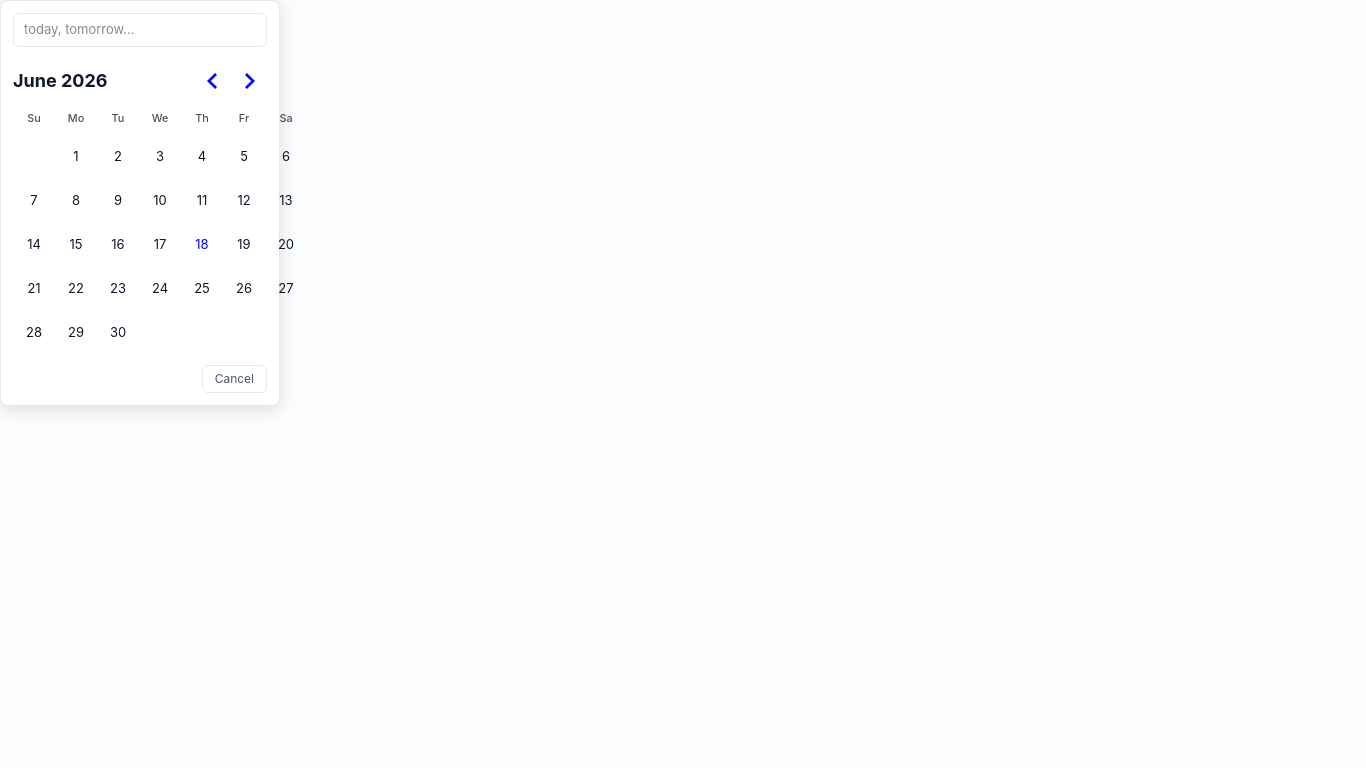
Test: DatePicker › shows error when ISO date is invalid
# type an invalid date and press Enter
Step 1. Type "2026-13-45" into the field with placeholder "today, tomorrow…" → (140, 30), box left=13, top=13, right=267, bottom=46
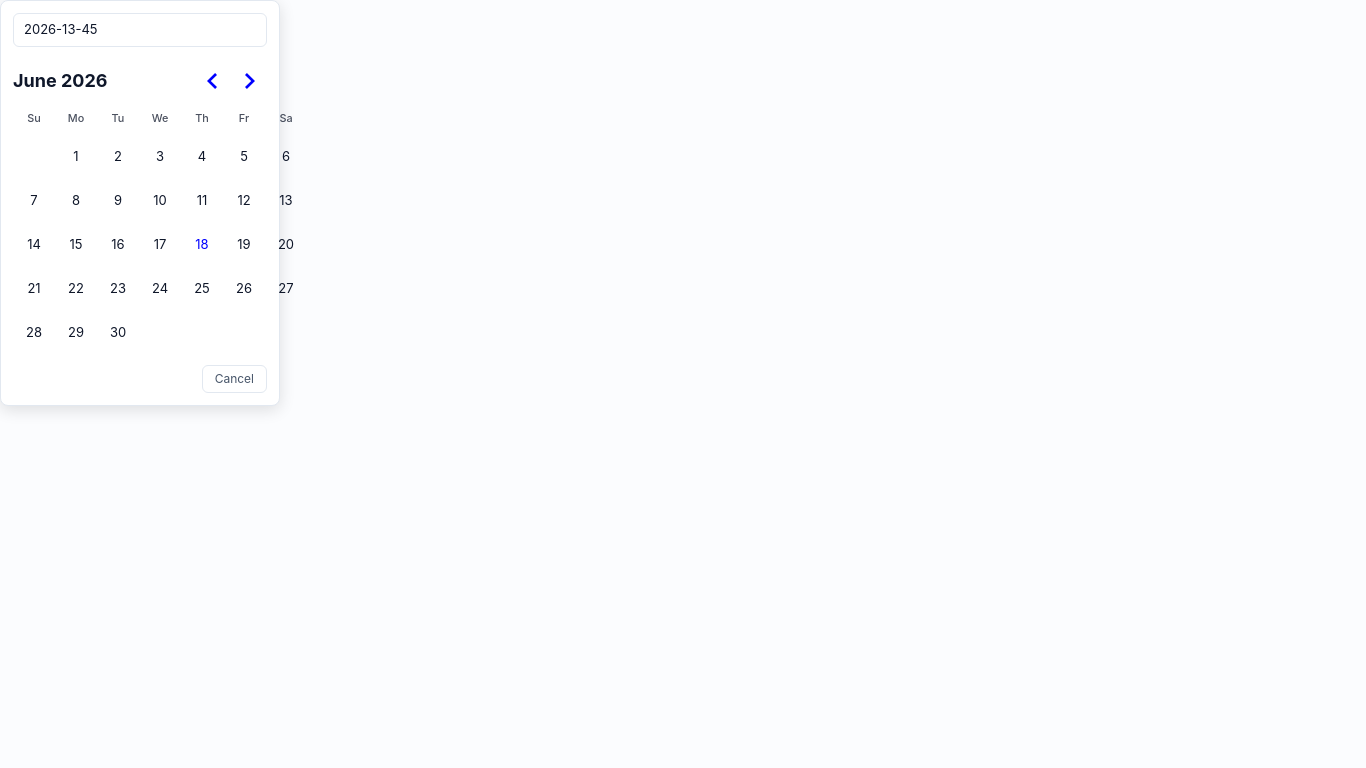
Step 2. Press Enter in the field with placeholder "today, tomorrow…", box left=13, top=13, right=267, bottom=46
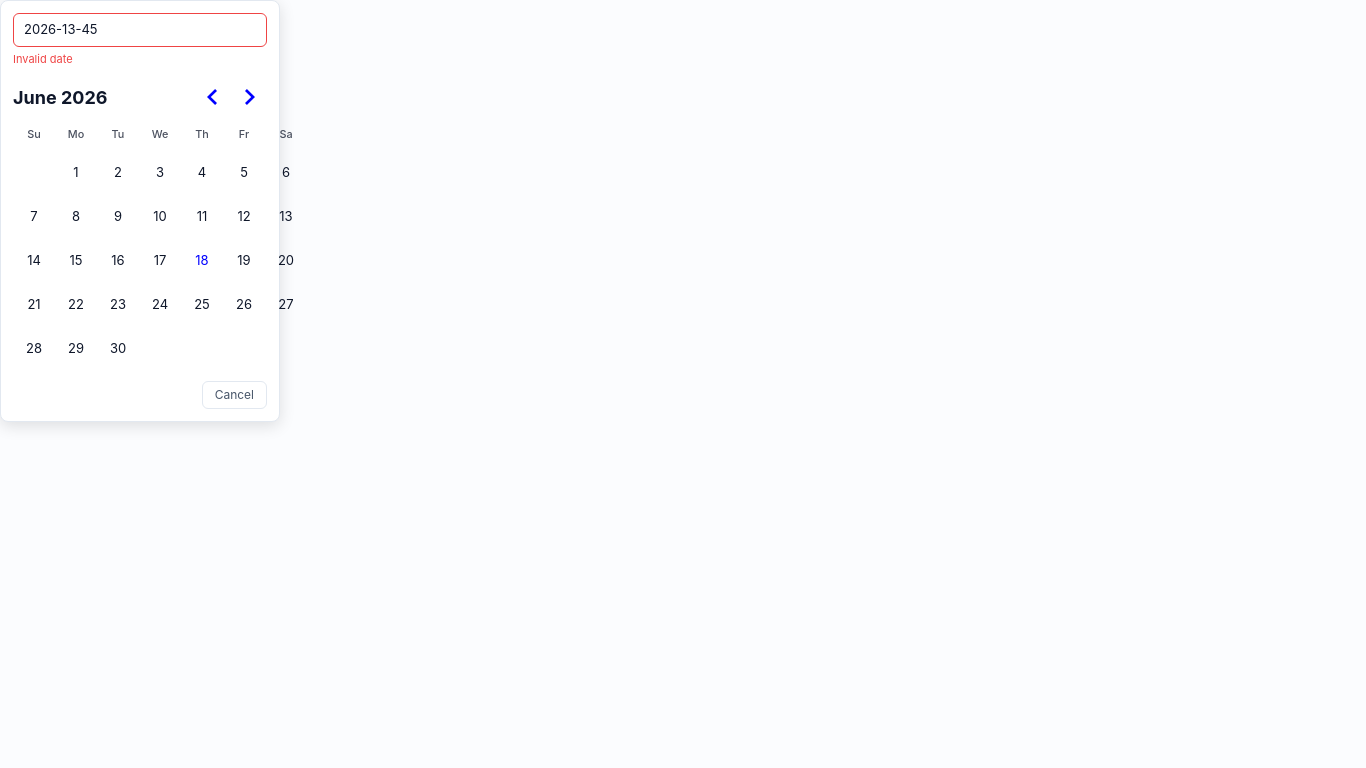
Check: the text with test id "datepicker-error" reads "Invalid date", box left=13, top=52, right=73, bottom=66
